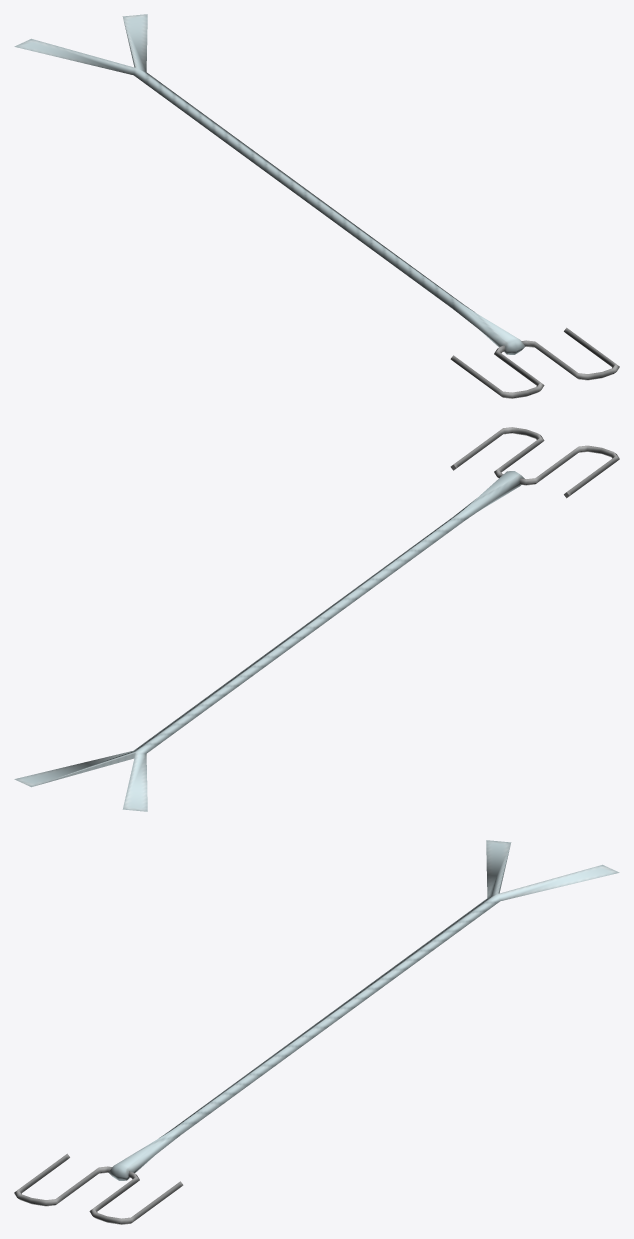
File: jsf_TwistedPaper_01.fbx
The picture shows the model from 3 angles, top to bottom: view 1: azimuth 30°, elevation 25°; view 2: azimuth 150°, elevation 25°; view 3: azimuth 330°, elevation 25°; orthographic projection.
Parts seen in each view (by area): view 1: Paper, Wire; view 2: Paper, Wire; view 3: Paper, Wire.
Boxes of the visible parts, <box> form: Paper: <box>14,14,525,354</box>; Wire: <box>450,327,619,398</box>; Paper: <box>14,471,524,811</box>; Wire: <box>450,427,619,498</box>; Paper: <box>108,840,619,1180</box>; Wire: <box>14,1153,183,1224</box>.
Size of the model in its own units: 1.91 by 0.1965 by 12.11.
